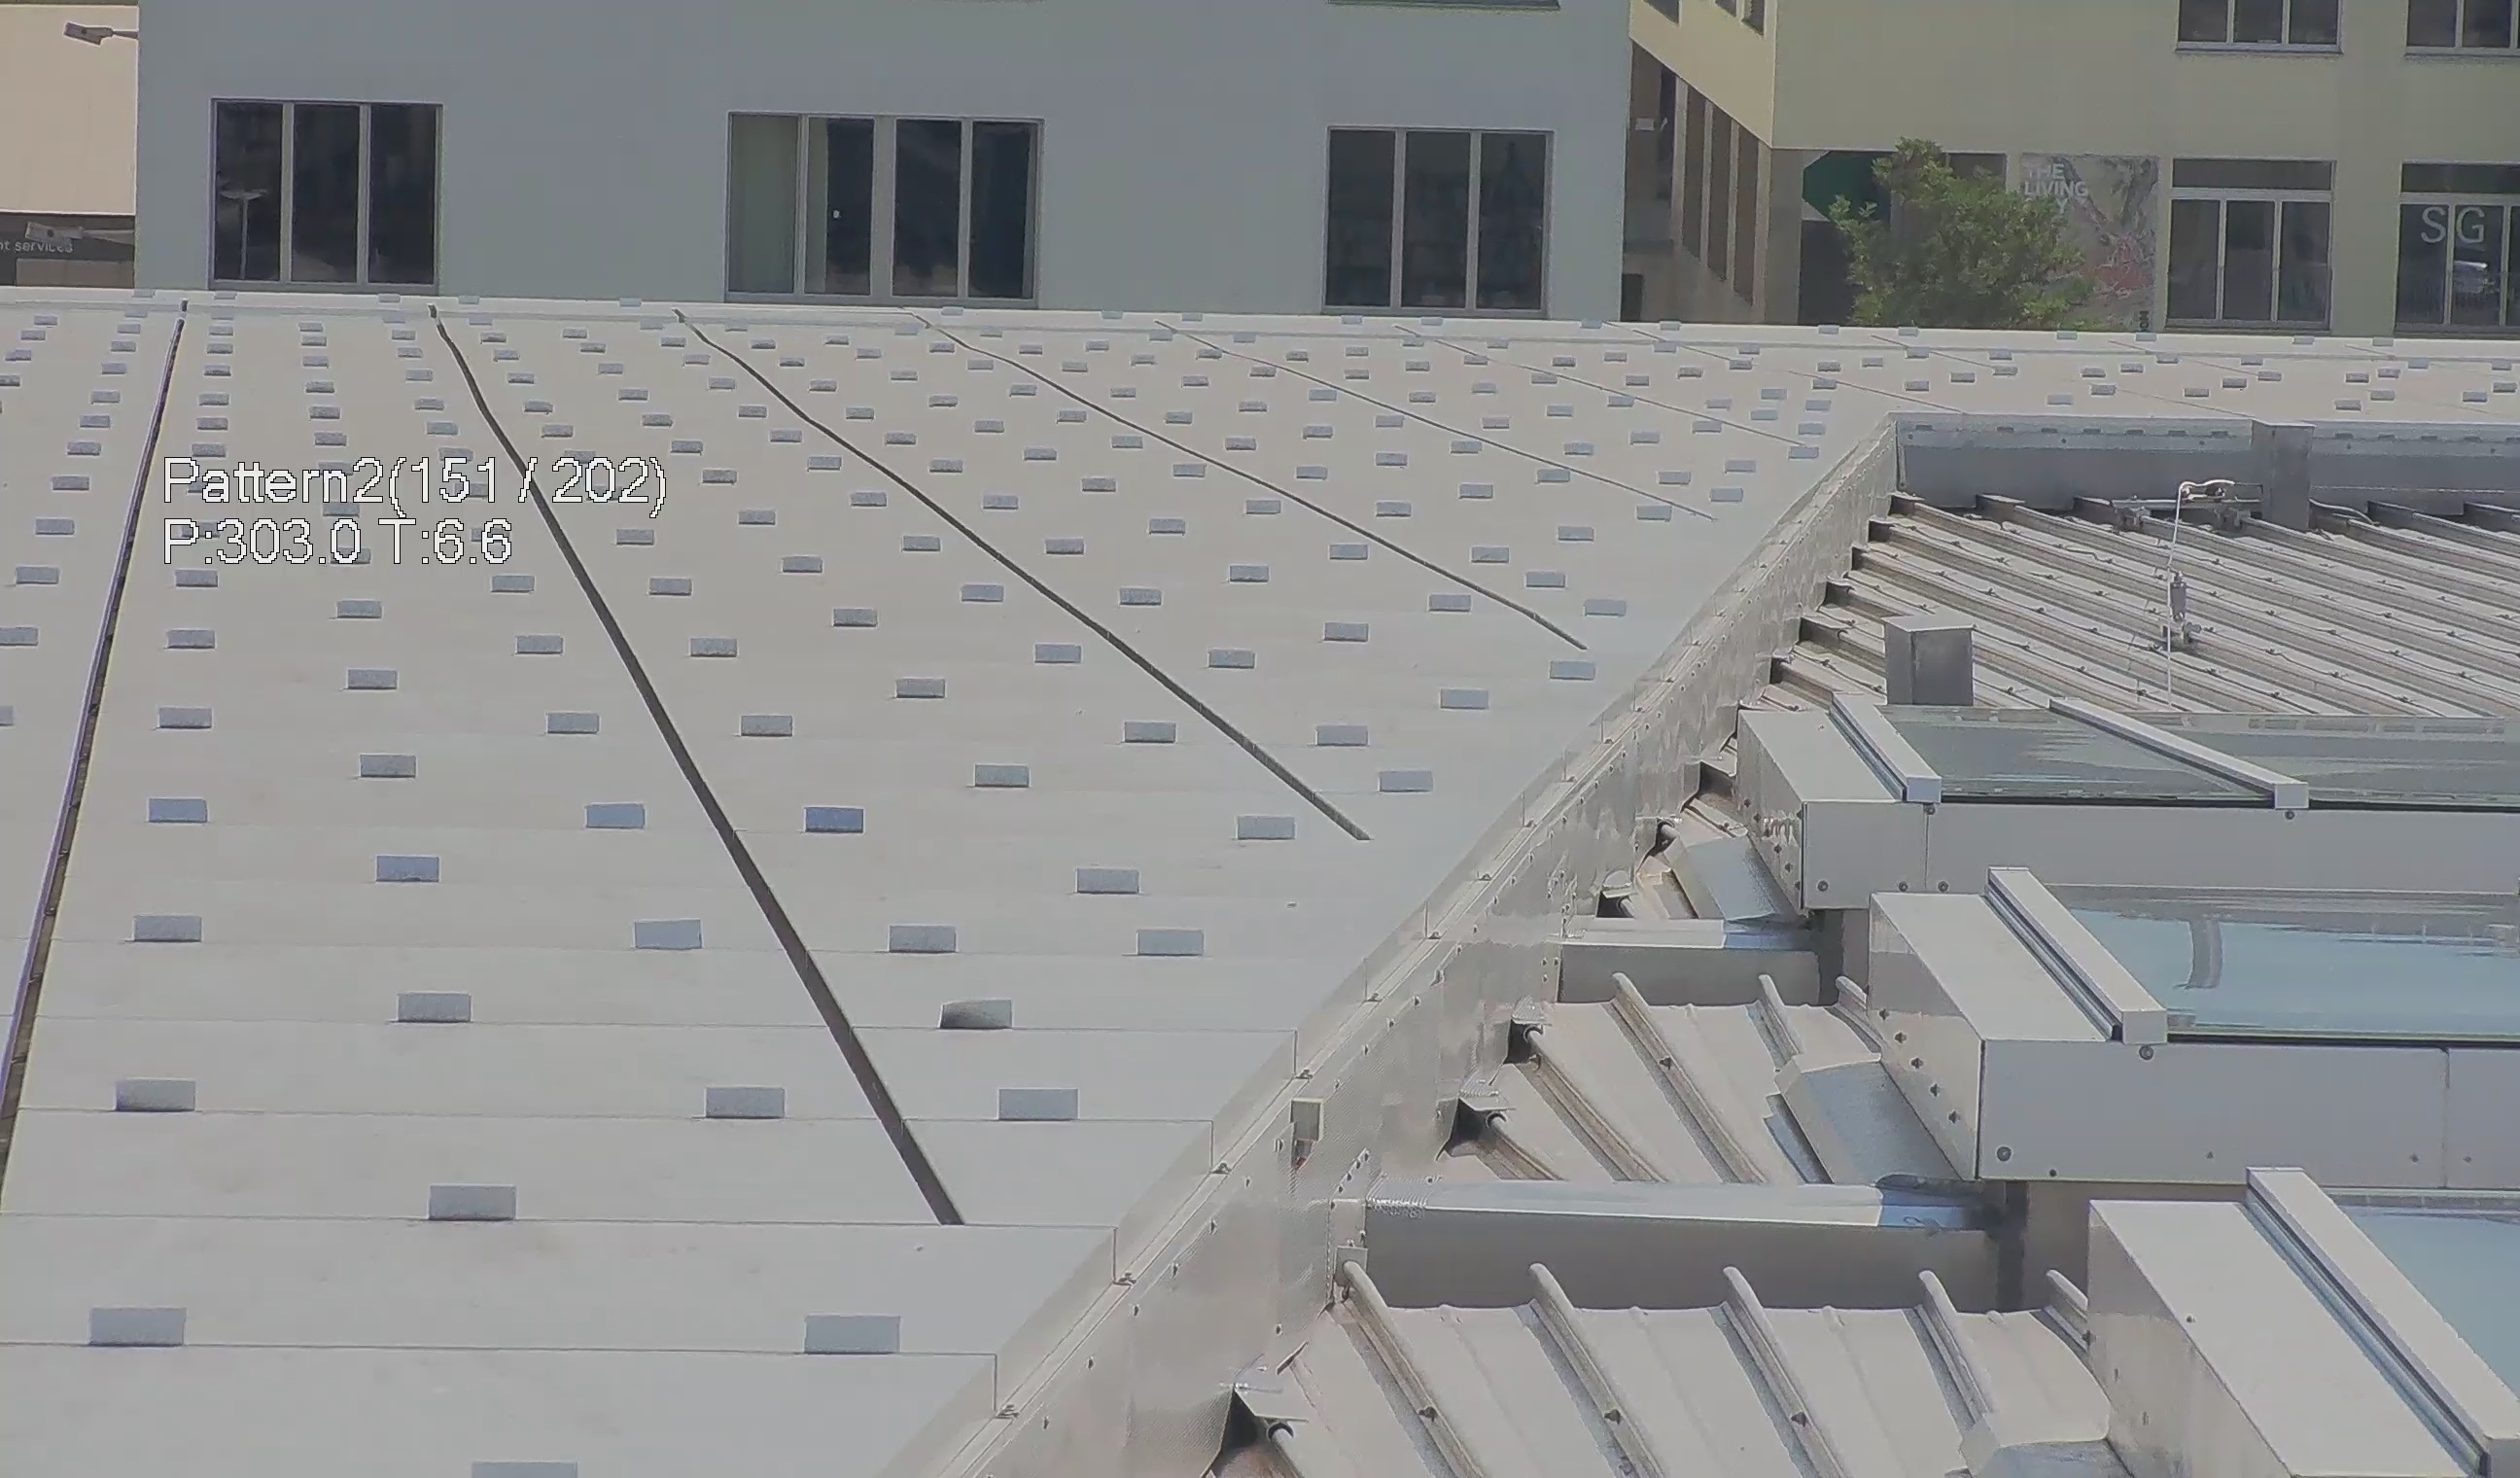Other: (1212, 1378, 1312, 1478)
